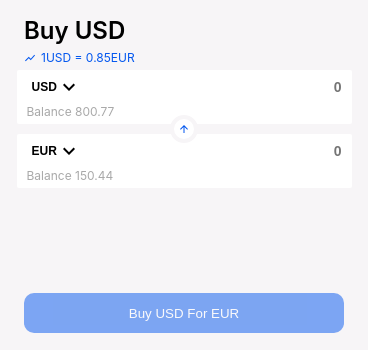
Test case: should make exchange correctly:
The image size is (368, 350).
Expected: the text "buy USD" is shown, [24, 16, 125, 45]
Expected: the element with test id "top-container" is shown, [16, 70, 352, 124]
Type "100" into the field with test id "top-input".
click(182, 97); type("100")  # box [22, 75, 342, 119]
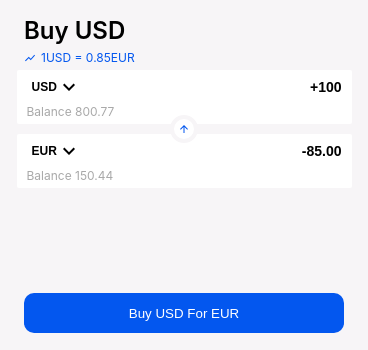
Expected: the element with test id "bottom-container" is shown, [16, 134, 352, 188]
Expected: the field showing "+100" next to "Balance 800.77" is shown, [22, 75, 342, 119]
Expected: the field showing "-85.00" next to "Balance 150.44" is shown, [22, 139, 342, 183]
Click the button with test id "confirm-btn".
click(184, 313)  # box [24, 293, 344, 333]
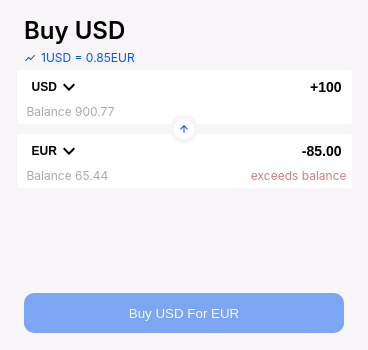
Expected: the text "Balance 900.77" is shown, [26, 104, 114, 119]
Expected: the text "Balance 65.44" is shown, [26, 168, 108, 183]
Expected: the text "exceeds balance" is shown, [251, 168, 346, 183]
